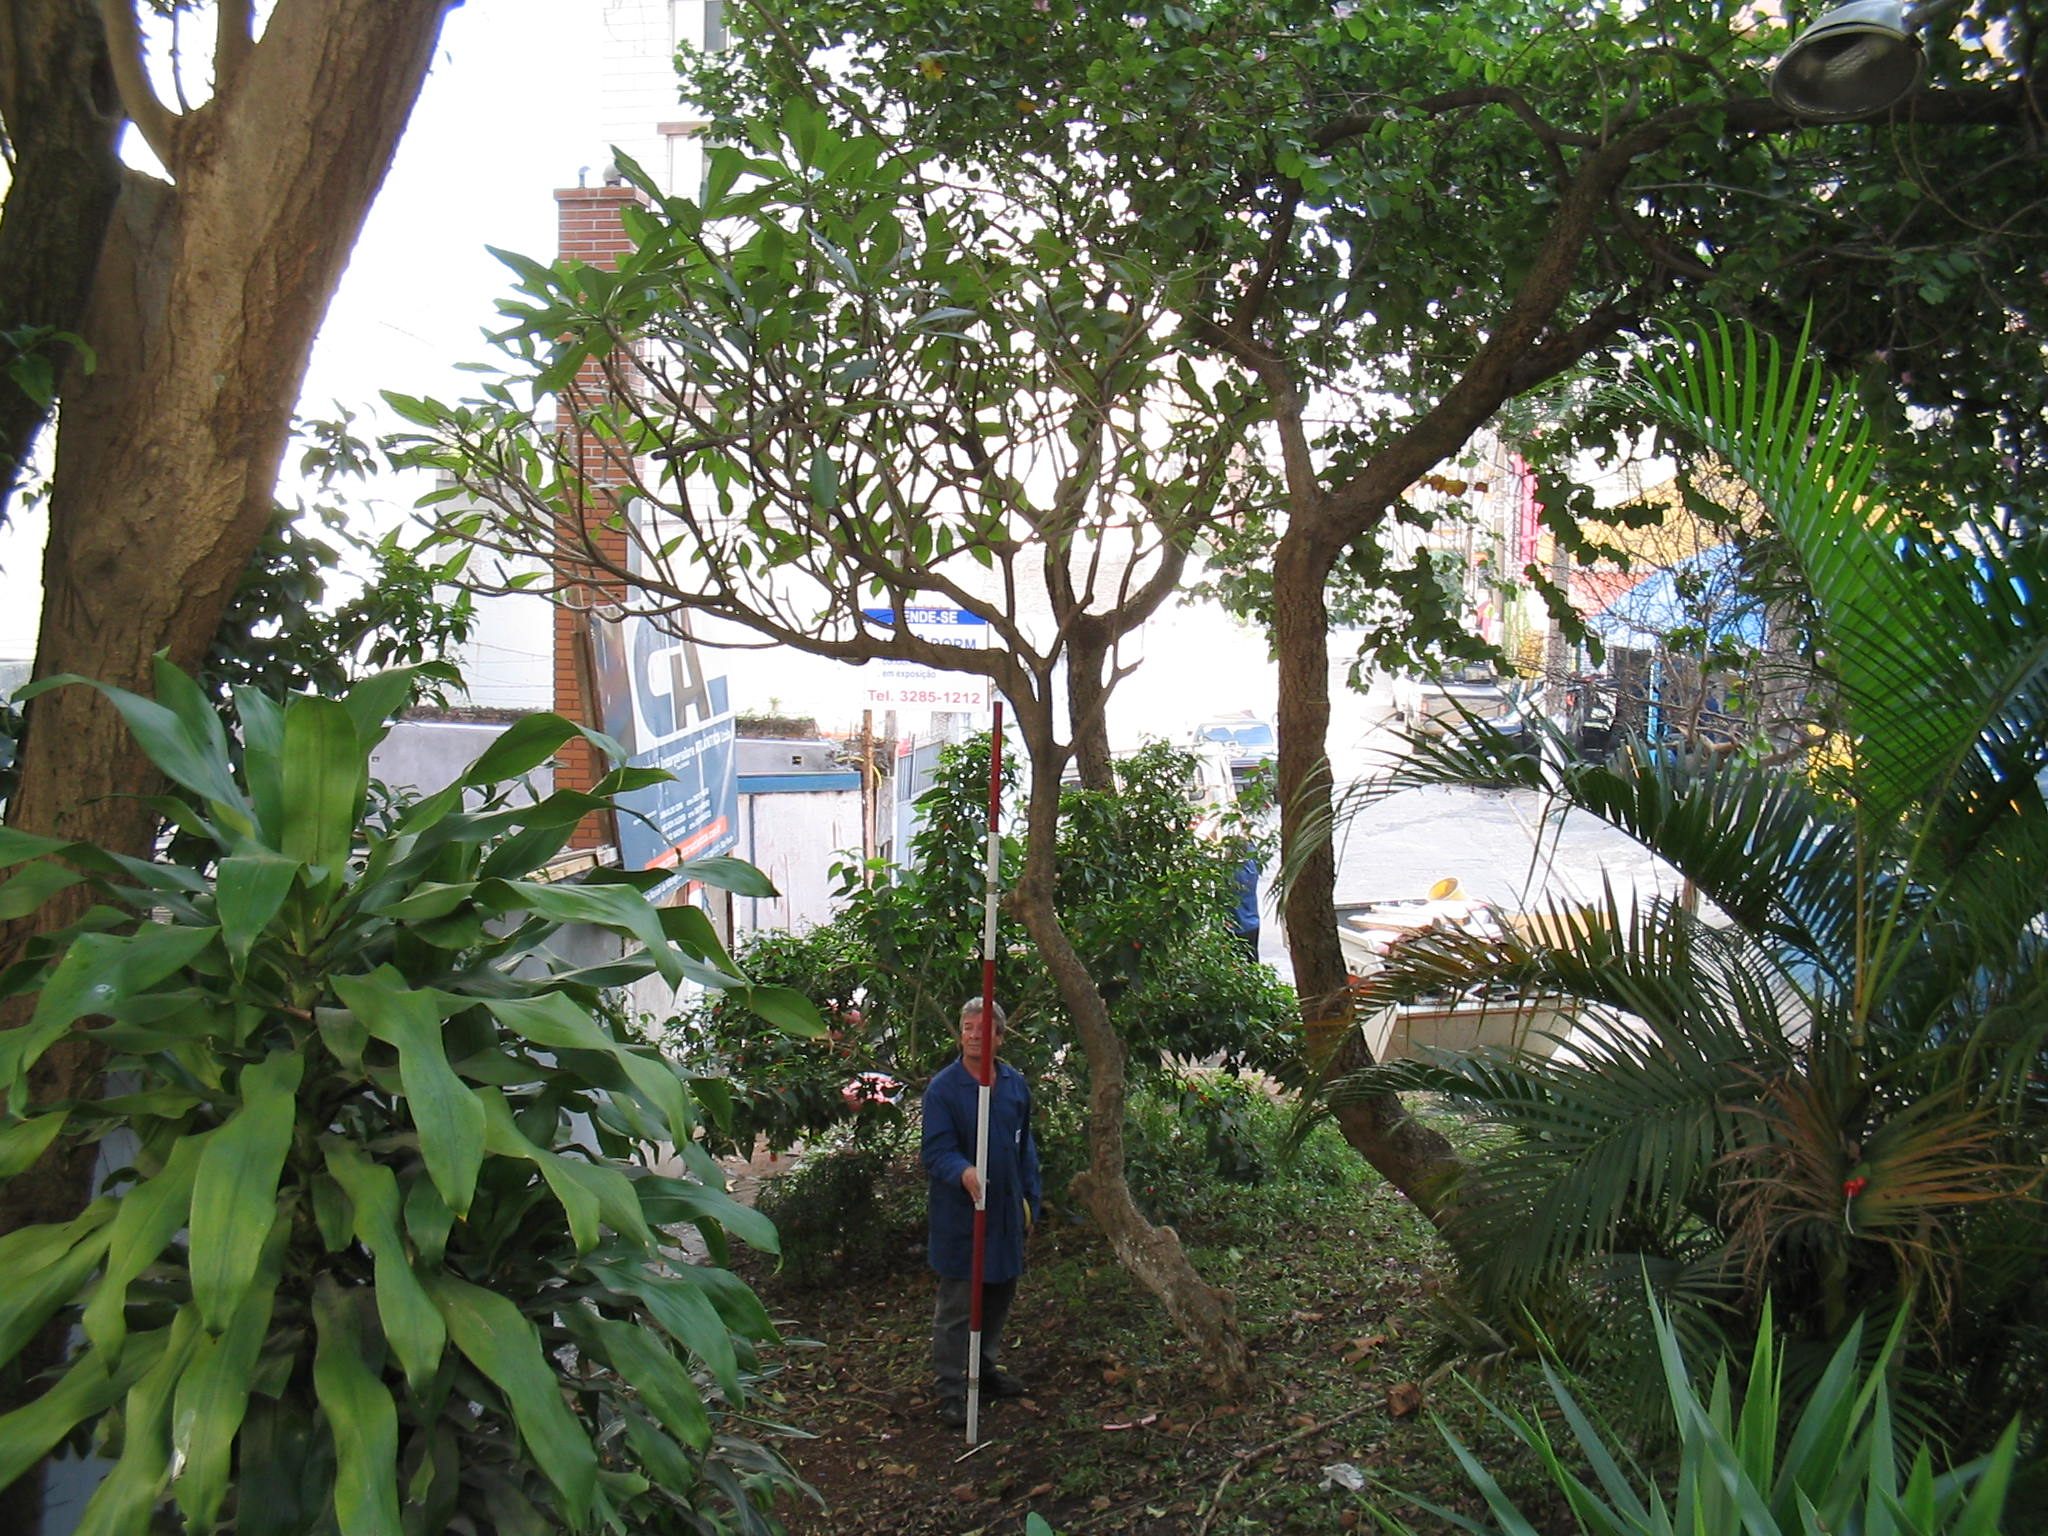crown: (389, 105, 1271, 737)
stem: (1250, 532, 1671, 1363), (1001, 752, 1276, 1392)
stick: (951, 699, 1021, 1447)
tree: (382, 98, 1282, 1392)
